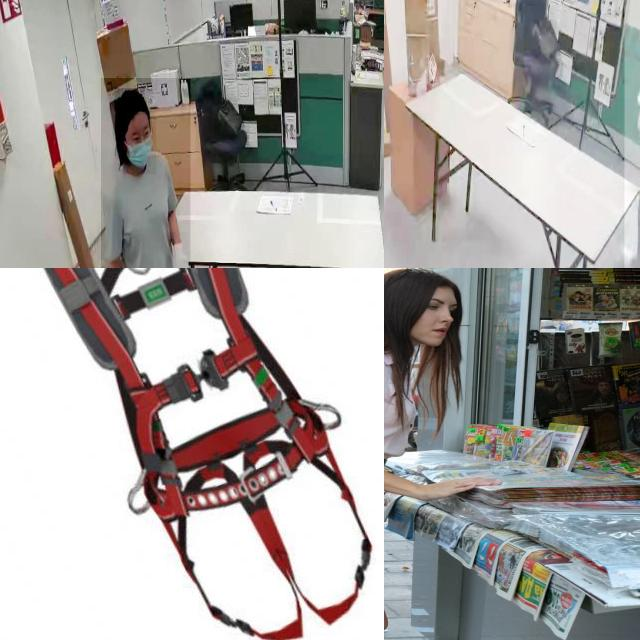Harness: (45, 268, 373, 640)
face_mask: (125, 113, 156, 174)
hand_glove: (165, 232, 188, 268)
head_nohelmet: (115, 88, 149, 113)
person: (101, 78, 191, 268)
